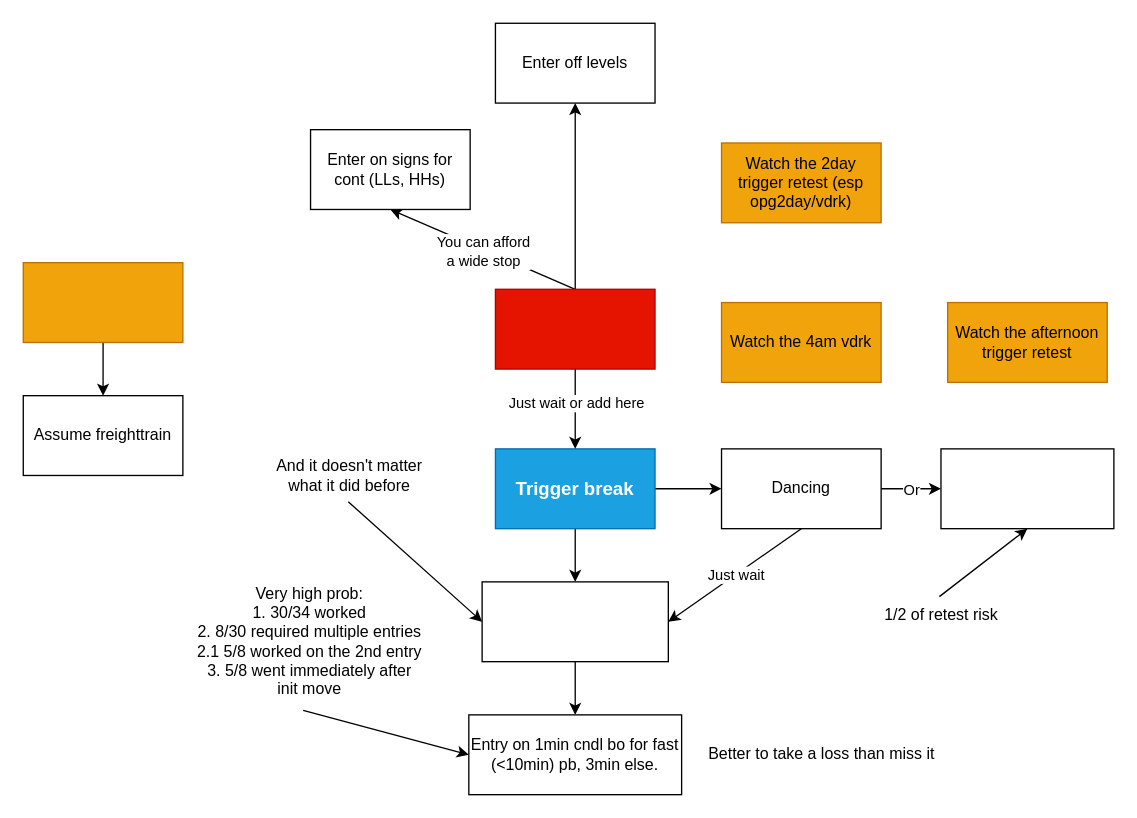
Image size: 1137x818. Some labels were removed from this diagram. Each missing label, with the box of its shape:
3 stairsteps: (22, 261, 183, 342)
Crystal clear retest of the trigger. Slight over/under shots are fine: (481, 581, 668, 662)
Give it at least 30min to show signs for cont: (940, 448, 1114, 529)
Trigger bounce: (494, 288, 655, 369)
